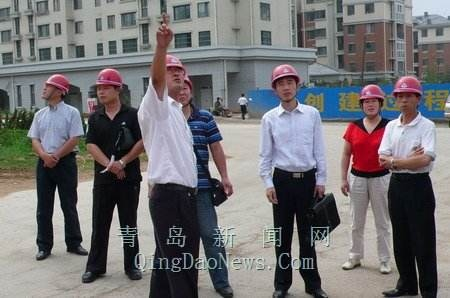red: (391, 73, 424, 117), (268, 62, 302, 103), (94, 67, 124, 107), (157, 53, 185, 93), (356, 82, 386, 119), (41, 73, 69, 107)
